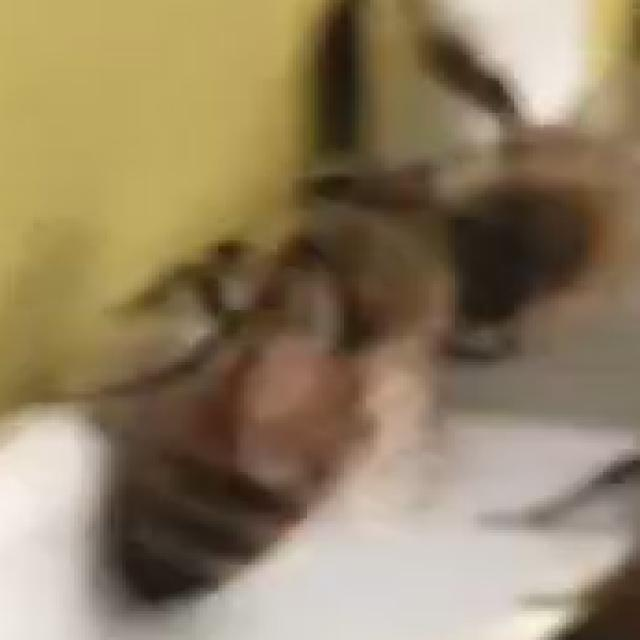honeybee: (68, 126, 441, 582), (333, 0, 640, 394)
